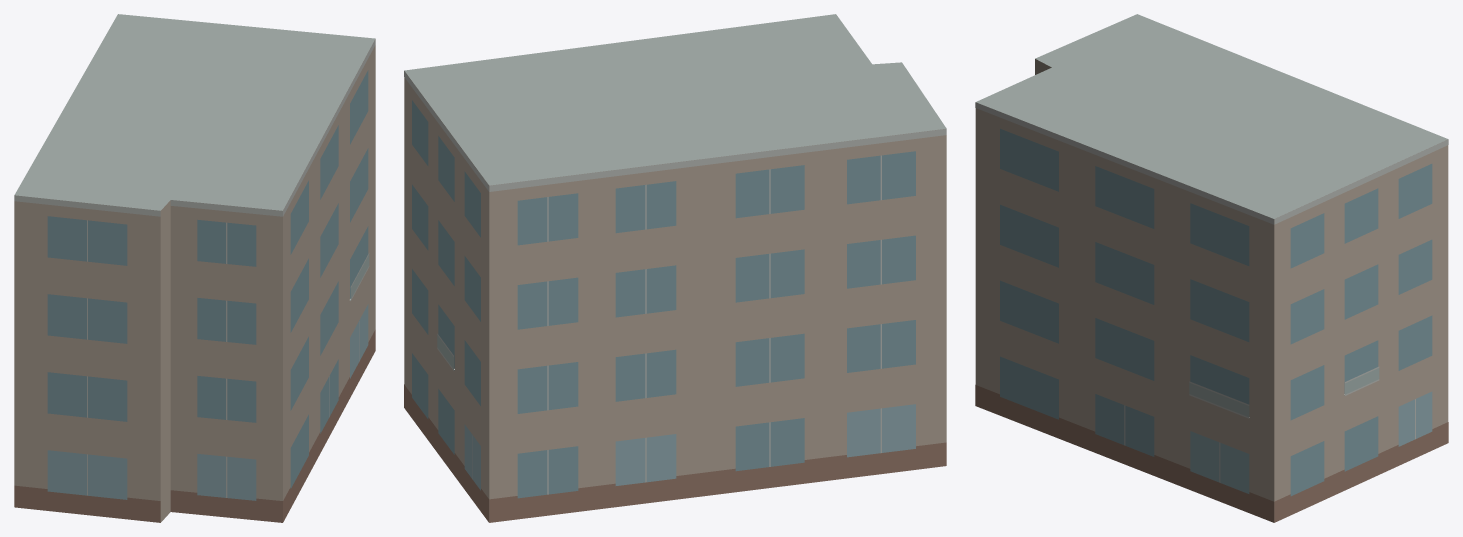
Rendered from survey-upis-32779407.glb.
3 views of the same model, side by side, from view 1: azimuth 30°, elevation 25°; view 2: azimuth 150°, elevation 25°; view 3: azimuth 270°, elevation 25° (orthographic). The views are drawn at different scales.
Visible parts, largest first — view 1: survey-upis-32779407.tmp; view 2: survey-upis-32779407.tmp; view 3: survey-upis-32779407.tmp.
Boxes of the visible parts, left/top/right/bottom form: survey-upis-32779407.tmp: left=14, top=14, right=375, bottom=522; survey-upis-32779407.tmp: left=404, top=14, right=946, bottom=522; survey-upis-32779407.tmp: left=975, top=14, right=1448, bottom=522.
Size of the model in its own units: 18.65 by 12.88 by 18.18.
